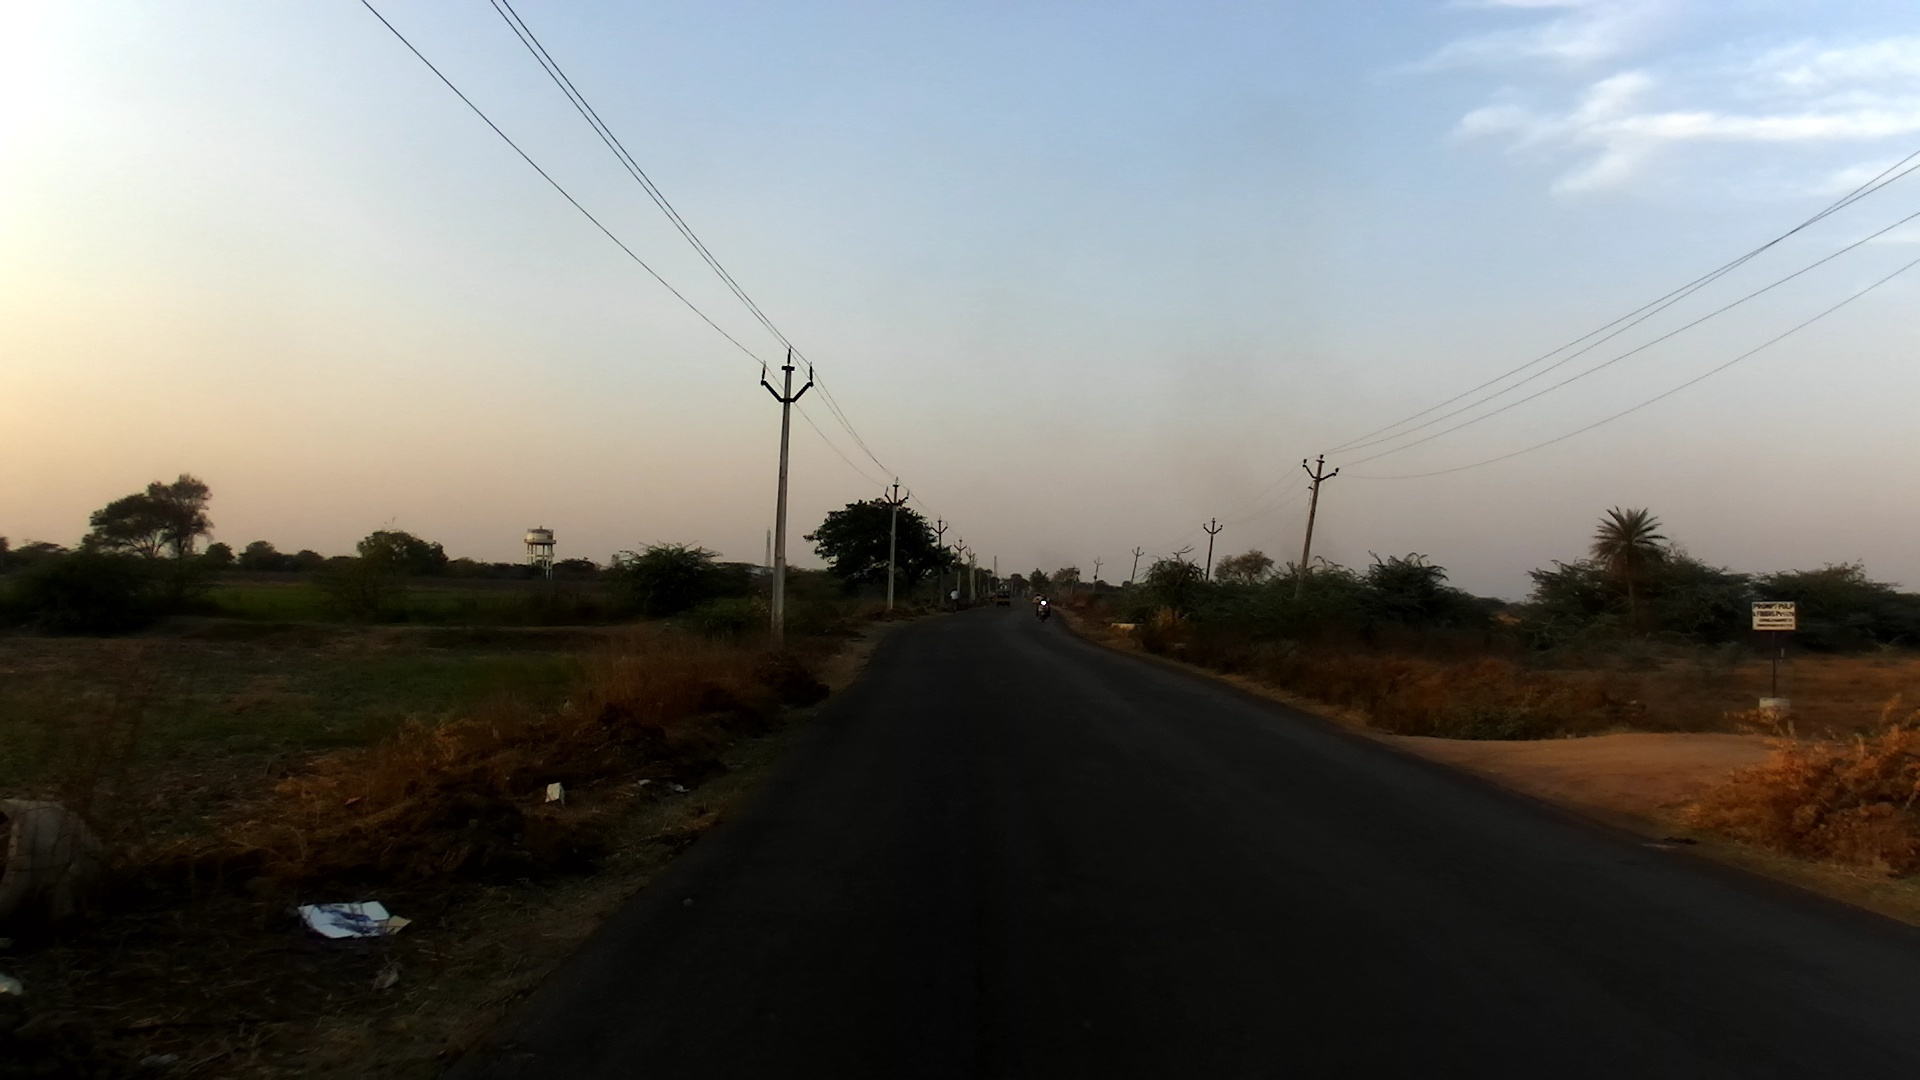autorickshaw: (994, 585, 1014, 604)
bicycle: (952, 596, 959, 616)
car: (1031, 593, 1045, 604)
motorcycle: (1037, 600, 1053, 621)
rider: (1035, 595, 1055, 618), (949, 587, 963, 611)
